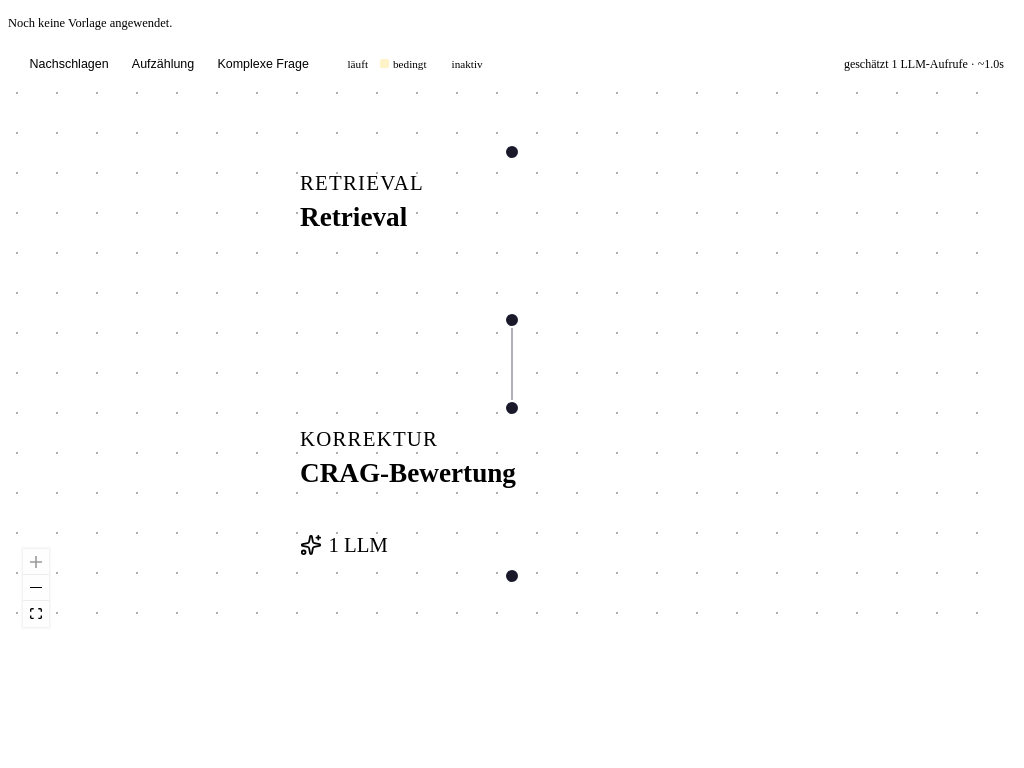
Test: WorkflowCanvas viewport › does NOT re-fit when a node is clicked — the user keeps their zoom
Click the element with test id "wf-node-crag_grade". click: (369,438)
box: [300,400,520,584]
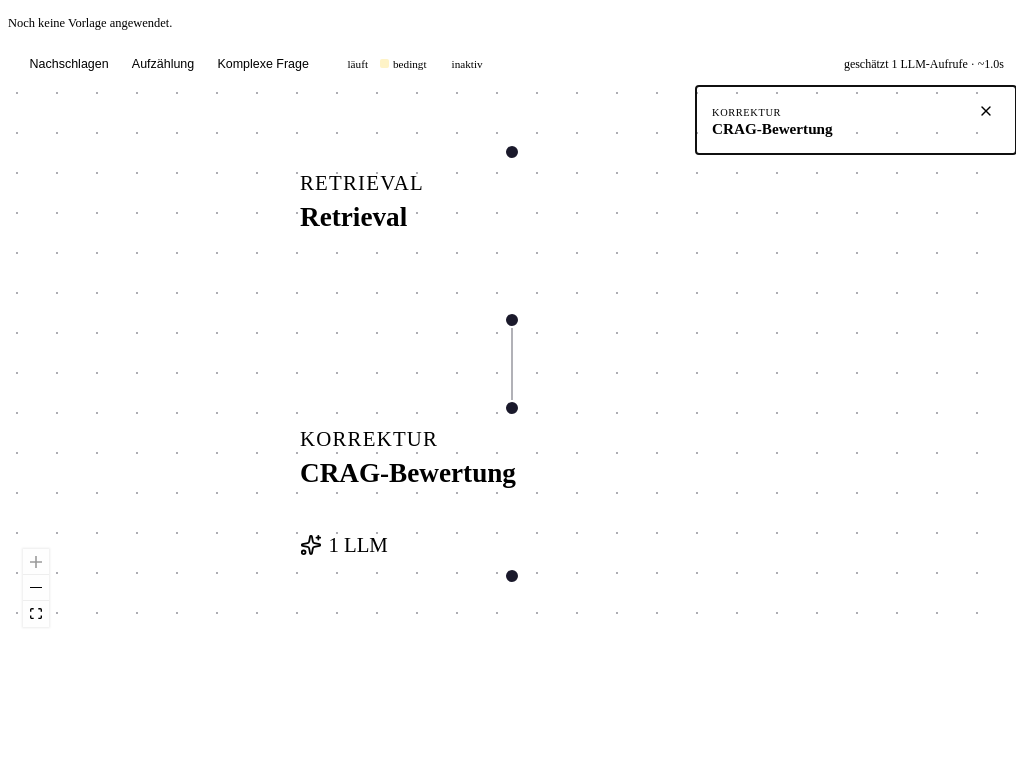
Now the element named "Details zu CRAG-Bewertung" is shown, box [712,102,1000,137]
